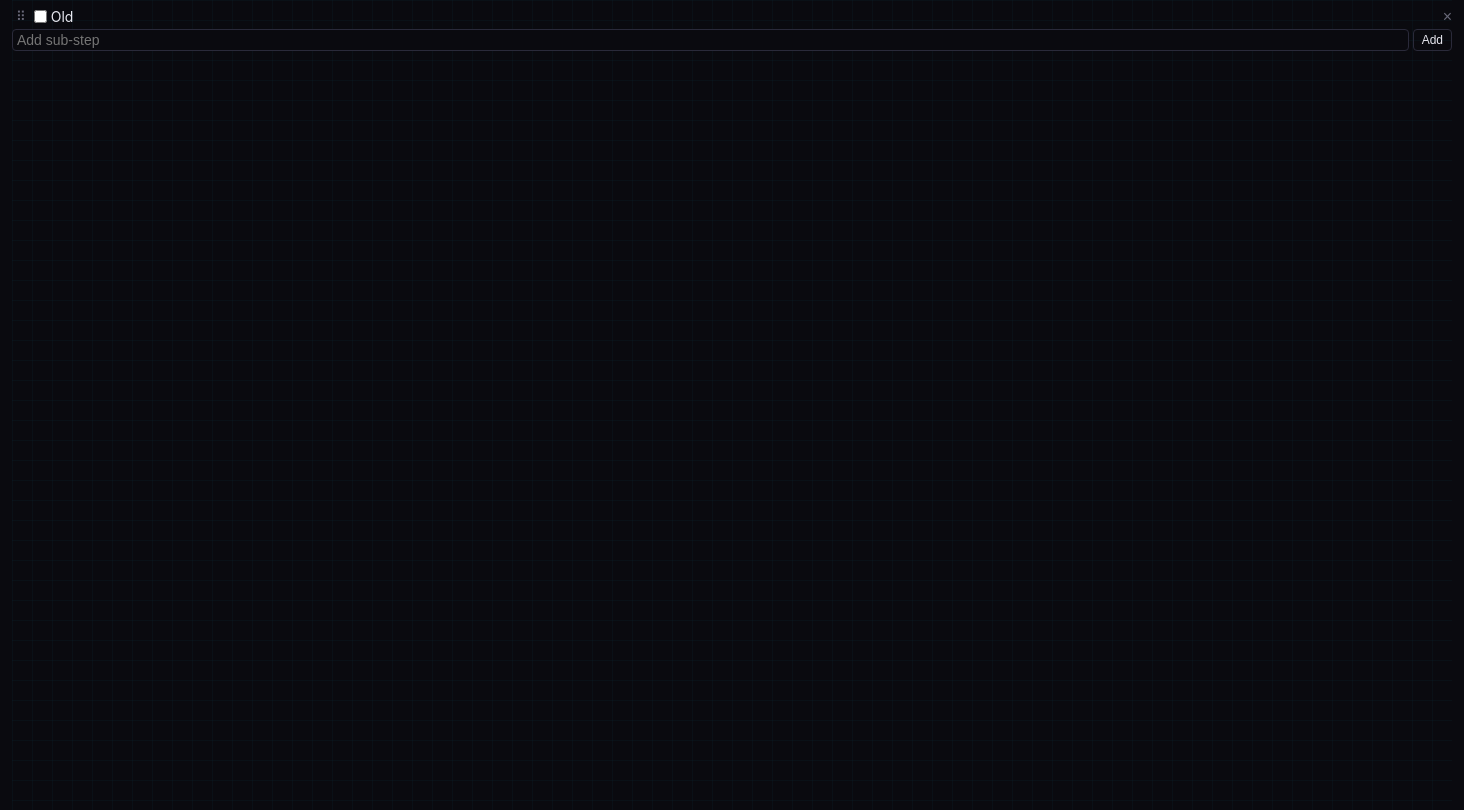
Test: SubSteps › renames a sub-step via double-click
Double-click the text "Old" at (62, 16), box [51, 8, 74, 25]
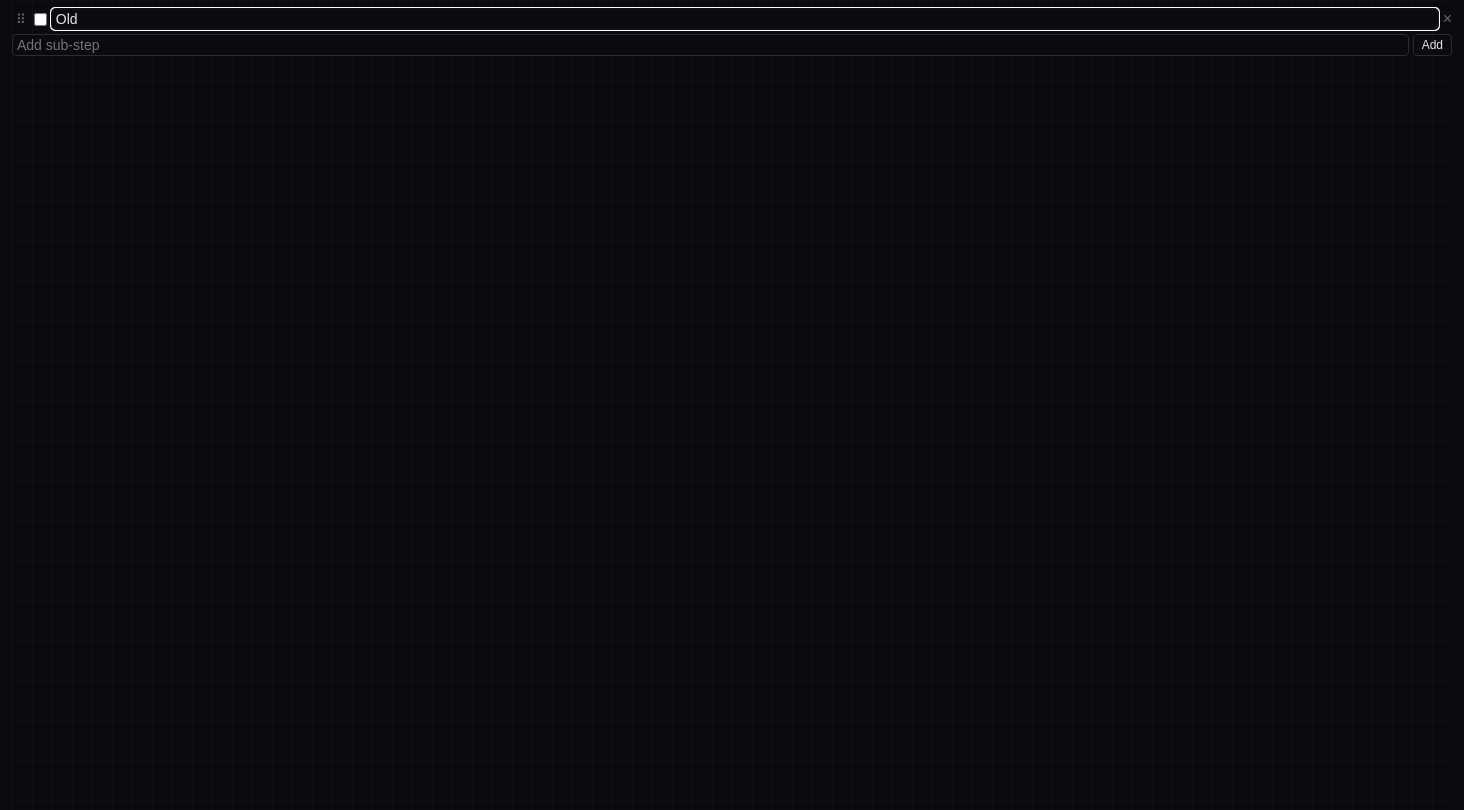
Replace the text in the field named "Edit sub-step title" with "New" at (745, 19), box [51, 8, 1439, 30]
Then press Enter
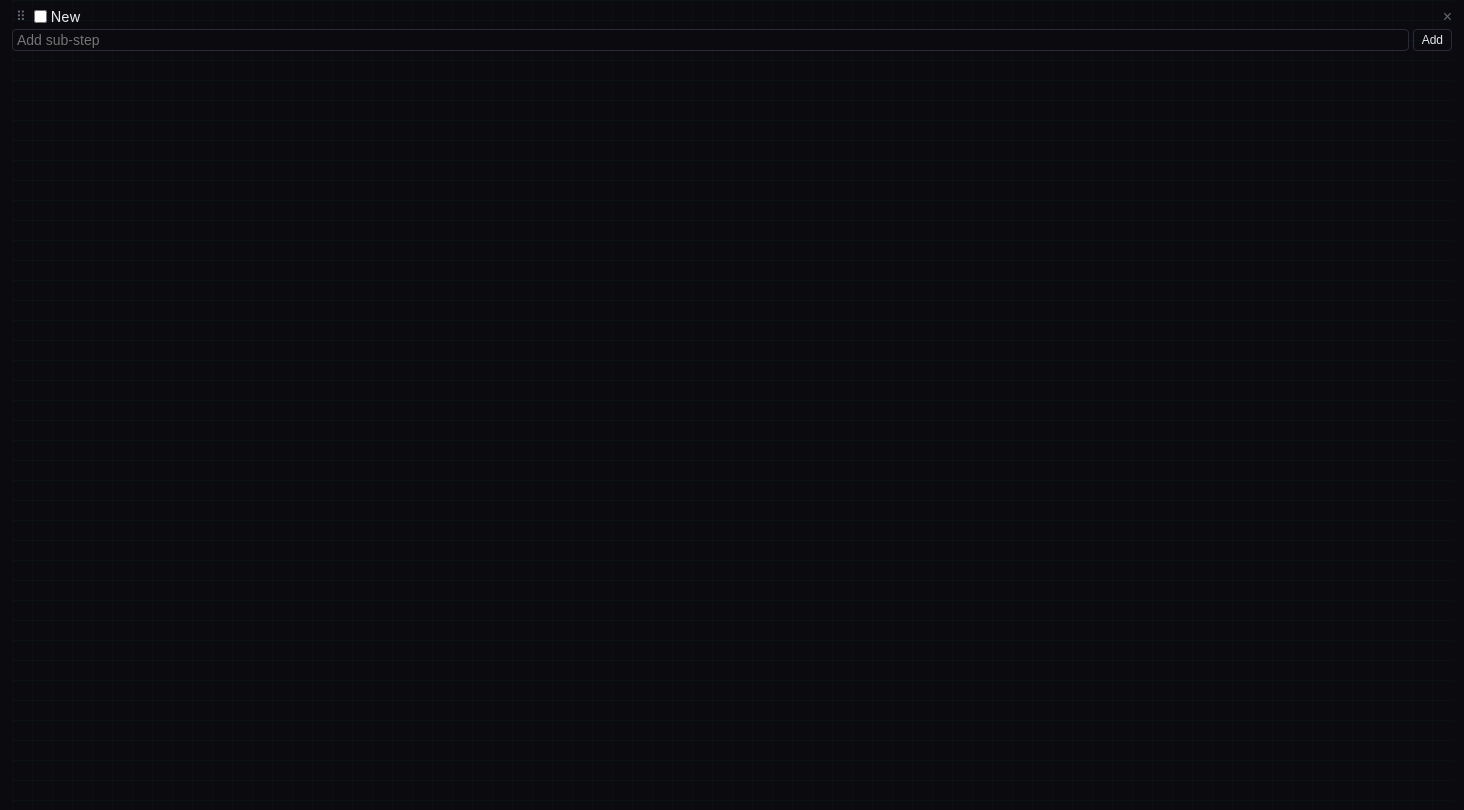
Result: the text "New" is shown at [51, 8, 81, 25]
